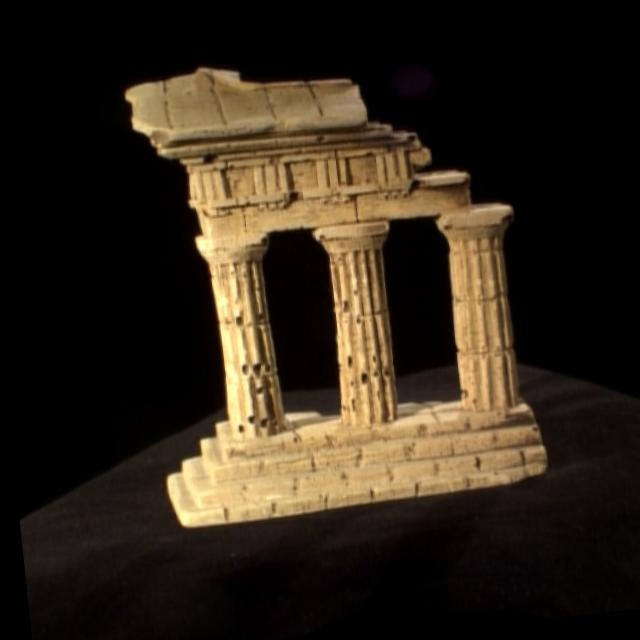Instance-Segmentation: (125, 67, 544, 524)
